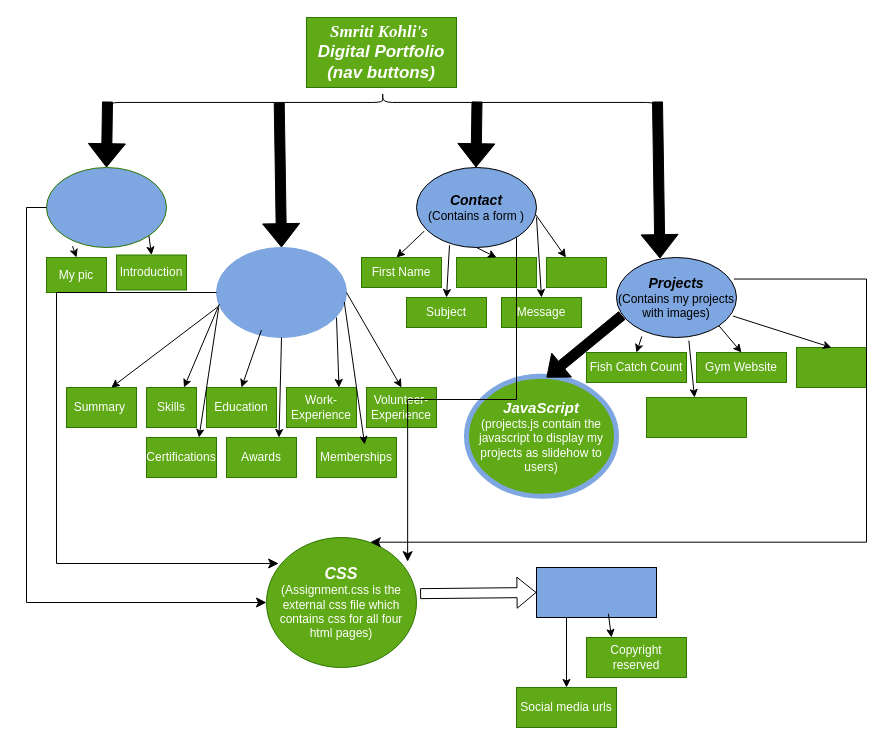
This 894x745 diagram has some shape labels left out. Here are the shapes that lost their labels. From the top down, the centre of each, then its label:
At point 106,207: "Home".
At point 281,292: "Resume".
At point 496,272: "Last Name".
At point 576,272: "email".
At point 831,367: "Hometown Website".
At point 696,417: "Database managemnt".
At point 596,592: "Footer".
